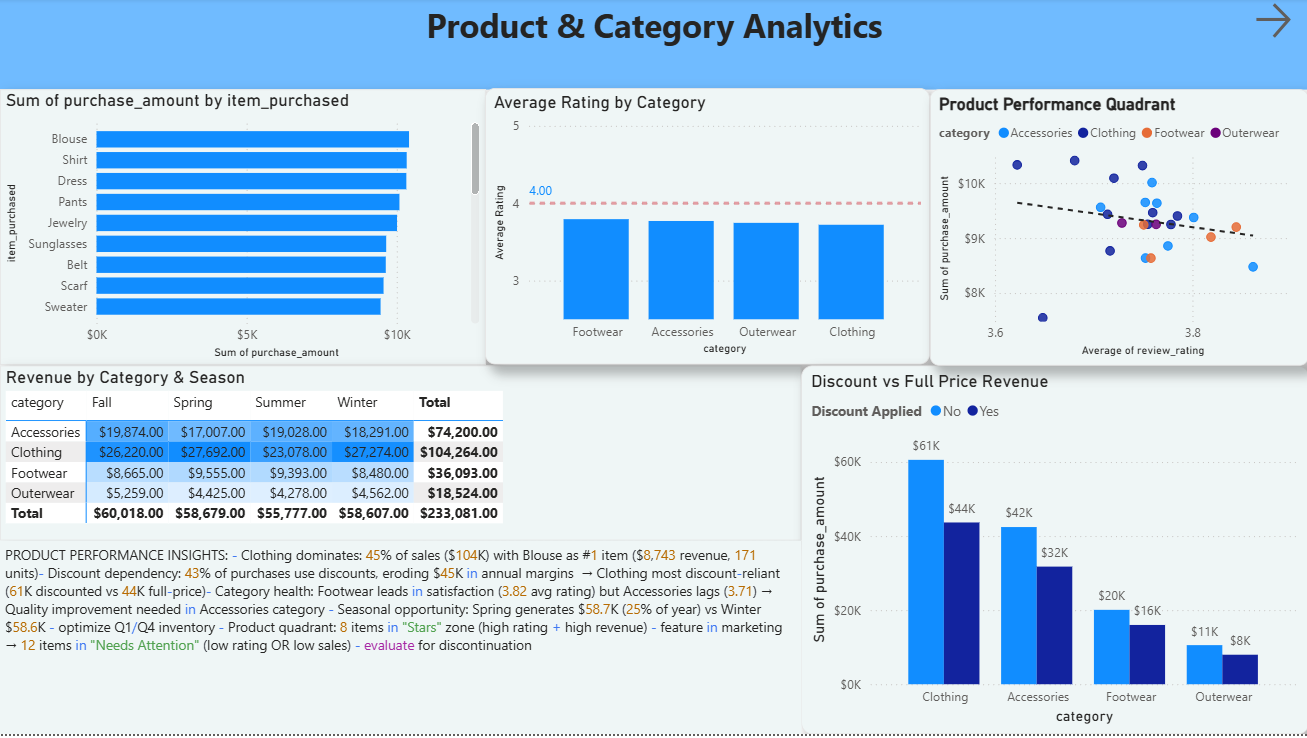

The dashboard page shown, as its layout file describes it:
{"tool":"powerbi","page":{"name":"Product Performance","canvas":[1280,720],"ordinal":2},"visuals":[{"type":"textbox","box":[0,0,1280.3,89.3],"z":0},{"type":"clusteredBarChart","fields":{"Category":["customer_enhanced.item_purchased"],"Y":["Sum(customer_enhanced.purchase_amount)"]},"box":[0,89.8,475.3,269.3],"z":1000},{"type":"pivotTable","title":"Revenue by Category & Season","fields":{"Rows":["customer_enhanced.category"],"Columns":["customer_enhanced.season"],"Values":["Sum(customer_enhanced.purchase_amount)"]},"box":[0,359.5,413.3,171.2],"z":2000},{"type":"clusteredColumnChart","title":"Average Rating by Category","fields":{"Y":["Avg(customer_enhanced.review_rating)"],"Category":["customer_enhanced.category"]},"box":[474.5,89.3,435.3,270.2],"z":3000},{"type":"clusteredColumnChart","title":"Discount vs Full Price Revenue","fields":{"Category":["customer_enhanced.category"],"Y":["Sum(customer_enhanced.purchase_amount)"],"Series":["customer_enhanced.discount_applied"]},"box":[413.3,359.5,496.5,360.7],"z":4000},{"type":"textbox","box":[909.8,89.3,370.5,270.2],"z":5000},{"type":"scatterChart","title":"Product Performance Quadrant","fields":{"X":["Avg(customer_enhanced.review_rating)"],"Y":["Sum(customer_enhanced.purchase_amount)"],"Category":["customer_enhanced.item_purchased"],"Series":["customer_enhanced.category"]},"box":[910,360,370,360],"z":6000},{"type":"textbox","box":[0,531,413,189],"z":7000},{"type":"actionButton","box":[1222.9,0,57.1,44.3],"z":8000}]}

Visuals, with their boxes in screenshot pixels (x1, y1, x2, y2), scaled from the page's 1280x720 canvas onto the 1307x738 screenshot:
textbox: <box>0,0,1306,92</box>
clusteredBarChart - customer_enhanced.item_purchased x Sum(customer_enhanced.purchase_amount): <box>0,92,485,368</box>
"Revenue by Category & Season" pivotTable: <box>0,368,422,544</box>
"Average Rating by Category" clusteredColumnChart: <box>485,92,929,368</box>
"Discount vs Full Price Revenue" clusteredColumnChart: <box>422,368,929,737</box>
textbox: <box>929,92,1306,368</box>
"Product Performance Quadrant" scatterChart: <box>929,369,1306,737</box>
textbox: <box>0,544,422,737</box>
actionButton: <box>1249,0,1306,45</box>
